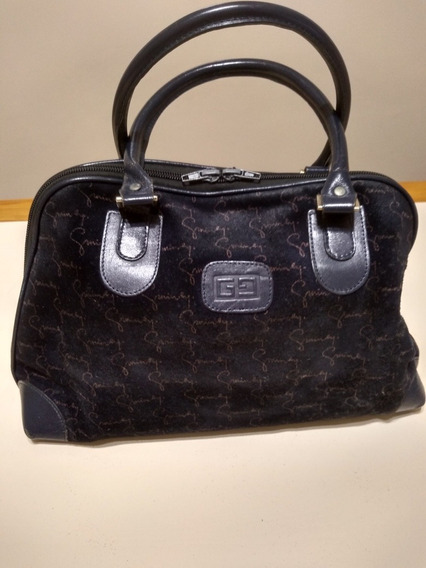cartera: (11, 2, 426, 444)
